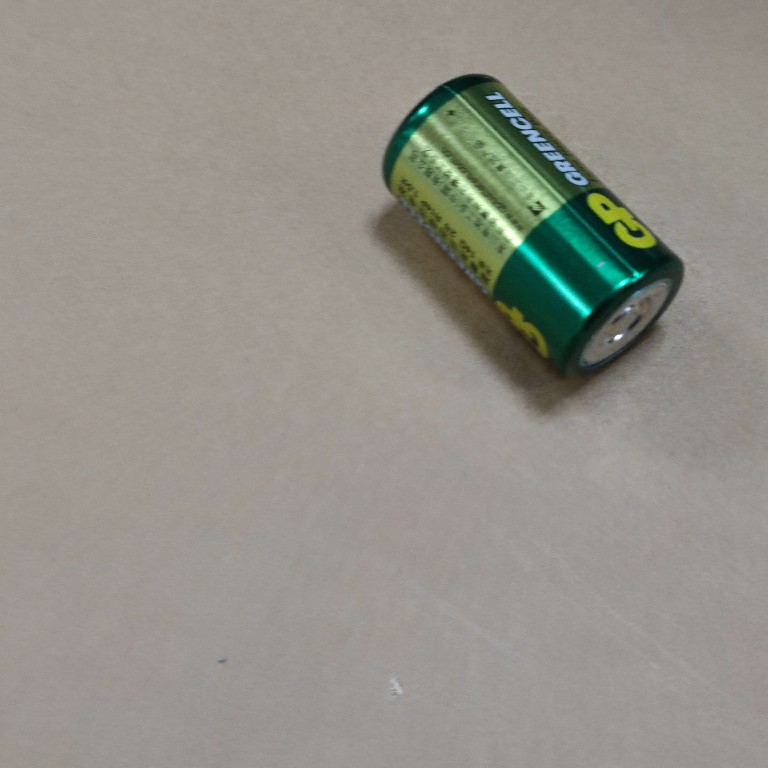charge: (380, 70, 689, 386)
